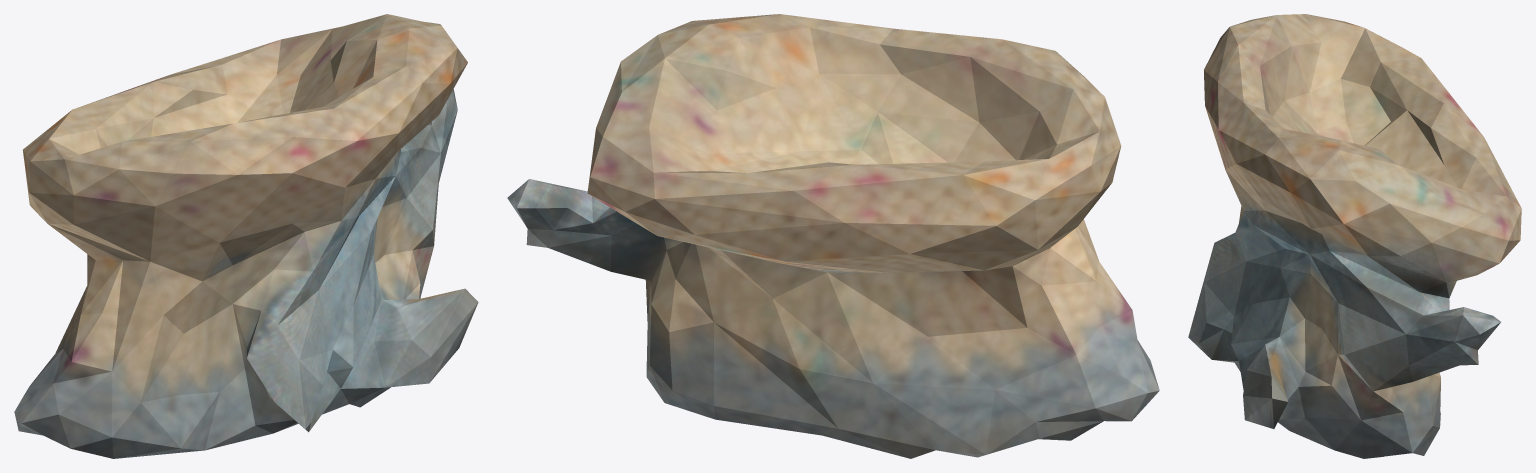
3 renders of one model, left to right at view 1: azimuth 30°, elevation 25°; view 2: azimuth 150°, elevation 25°; view 3: azimuth 270°, elevation 25°, orthographic. The views are drawn at different scales.
Visible parts, largest first — view 1: Puppenschuh_0.6k_512k; view 2: Puppenschuh_0.6k_512k; view 3: Puppenschuh_0.6k_512k.
Part boxes in pixels (x1,y1,x2,y2): Puppenschuh_0.6k_512k: (14,14,478,458); Puppenschuh_0.6k_512k: (507,14,1159,458); Puppenschuh_0.6k_512k: (1188,14,1521,458).
Bounding box in the file's own units: 0.079 × 0.0489 × 0.0465.
Materials: 1 (1 with a texture image).
